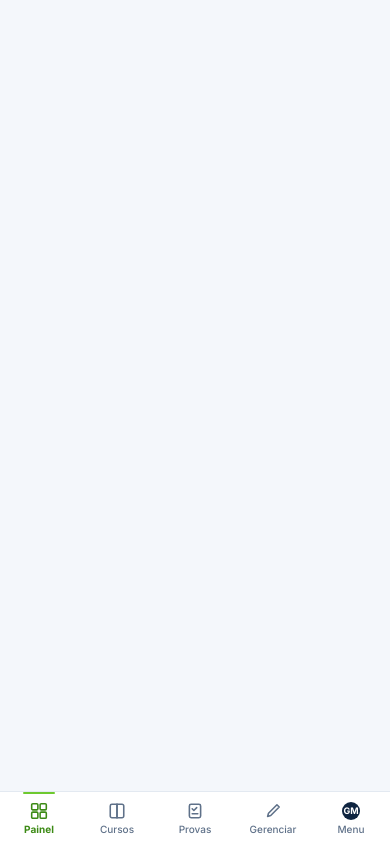
gaveta do menu › abre no toque do Menu e mostra o nome e o papel
What coordinates should you click on to do the following:
click the text "Menu"
I would click on:
 (351, 829)
Its box is [338,824,364,834].
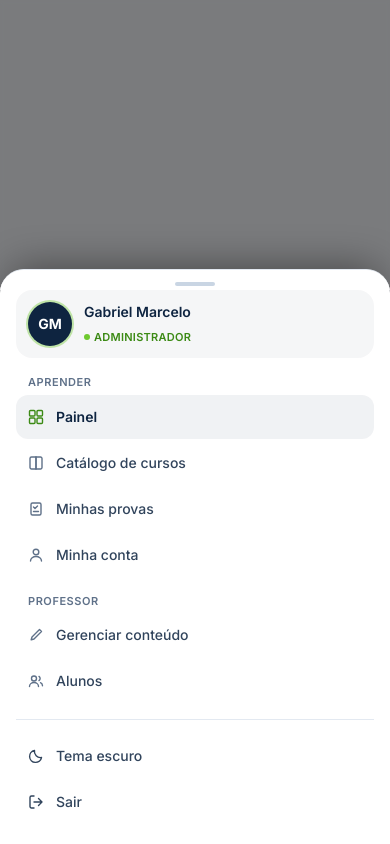
Expected: the text "Gabriel Marcelo" is shown, [84,302,191,322]
Expected: the text "Administrador" is shown, [84,329,191,345]
